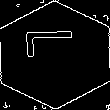L_E: (26, 39, 84, 71)
